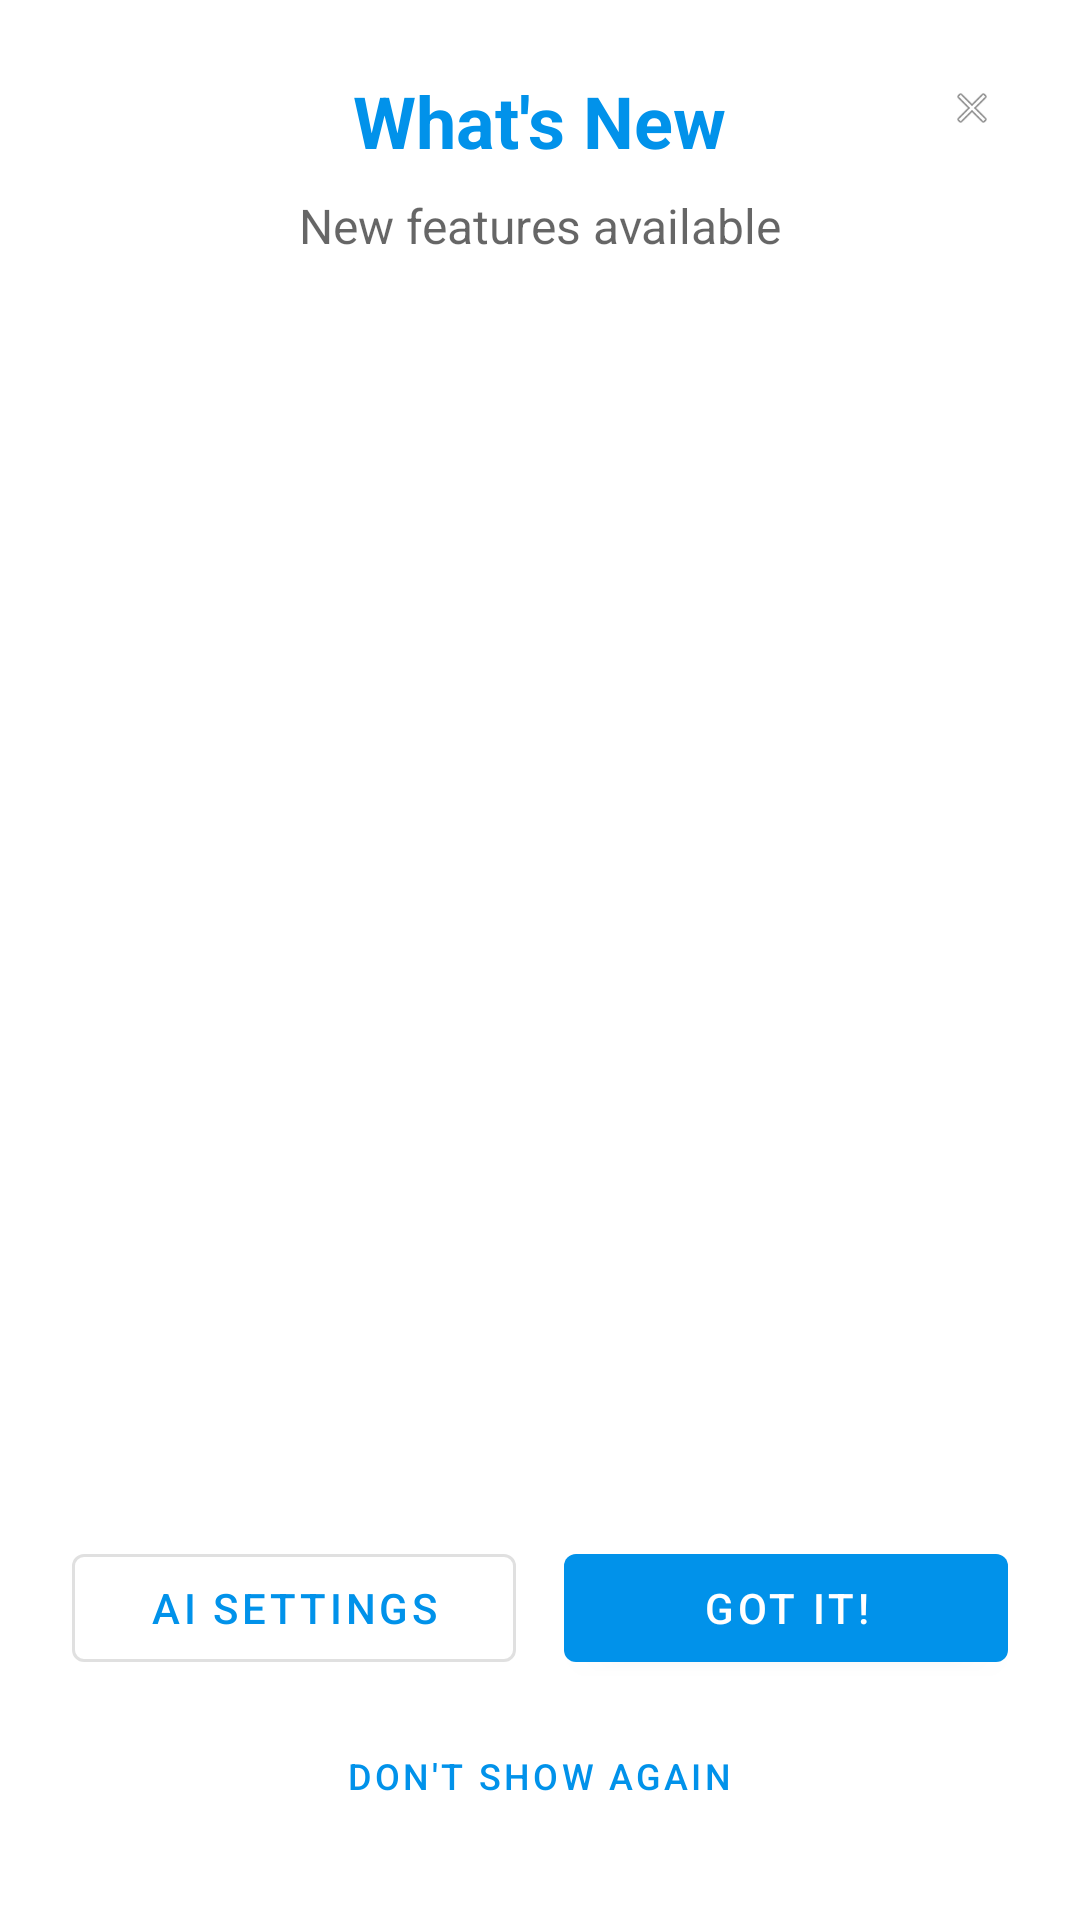

Icons on this 1080w x 1920h Android screen, each with its box as bbox=[x1, y1, x2, y2]:
Close: bbox=[957, 93, 987, 123]
